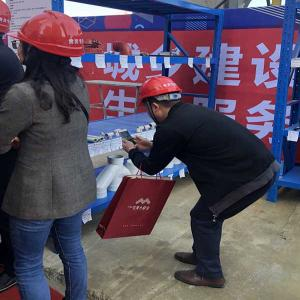red: (17, 10, 91, 74), (139, 75, 183, 122)
